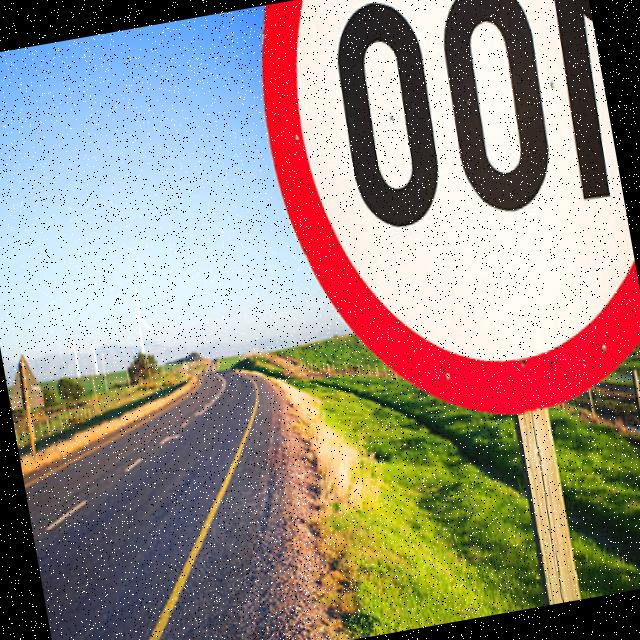speed_limit_100: (243, 0, 640, 449)
